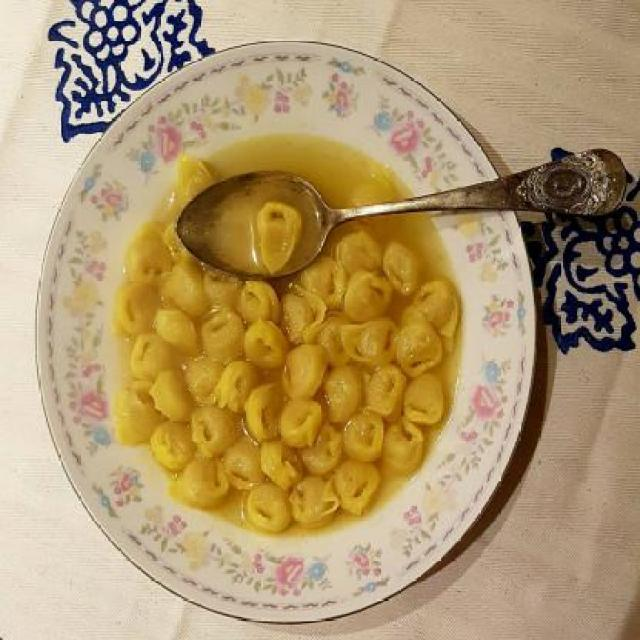Tortellini in broth: (86, 124, 470, 521)
